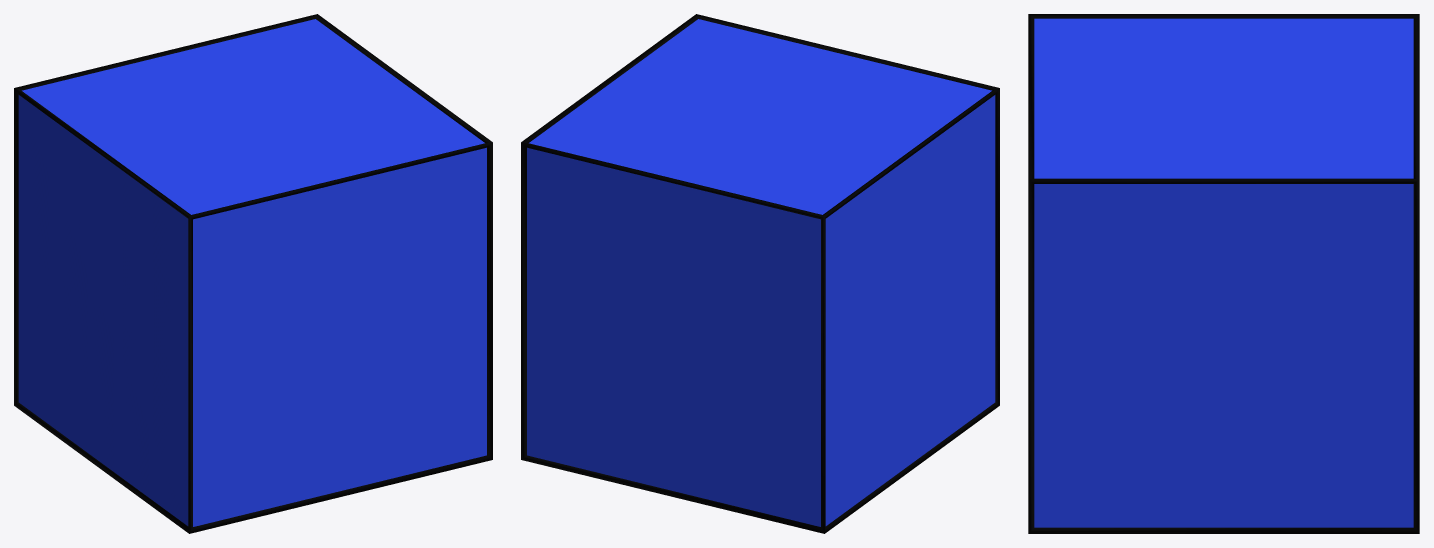
Rendered from cube_blue.obj.
3 views of the same model, side by side, from view 1: azimuth 30°, elevation 25°; view 2: azimuth 150°, elevation 25°; view 3: azimuth 270°, elevation 25° (orthographic). The views are drawn at different scales.
Visible parts, largest first — view 1: Cube_blue.001, Cube_blue; view 2: Cube_blue.001, Cube_blue; view 3: Cube_blue.001, Cube_blue.
Part boxes in pixels (box(x1,y1,x2,y2)): Cube_blue.001: box(18, 19, 486, 526); Cube_blue: box(14, 14, 492, 533); Cube_blue.001: box(527, 19, 995, 526); Cube_blue: box(521, 14, 999, 533); Cube_blue.001: box(1034, 18, 1413, 527); Cube_blue: box(1028, 14, 1419, 533).
Size of the model in its own units: 0.0506 by 0.0506 by 0.0506.
